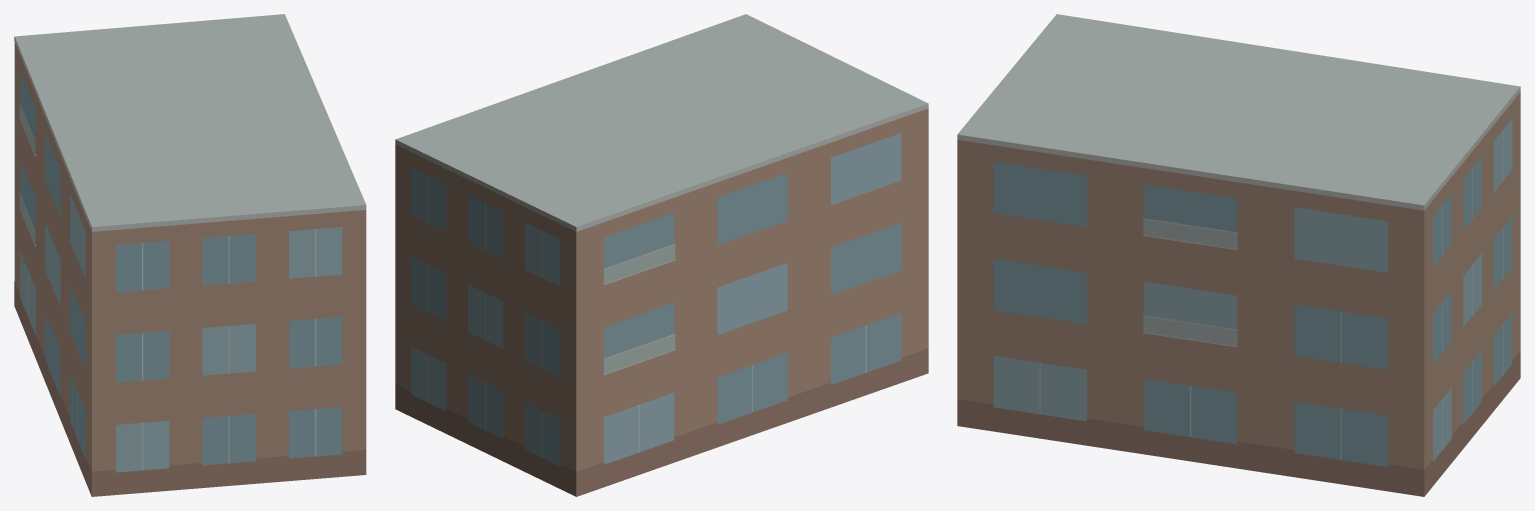
Rendered from survey-upis-32867099.glb.
The picture shows the model from 3 angles, left to right: view 1: azimuth 30°, elevation 25°; view 2: azimuth 150°, elevation 25°; view 3: azimuth 270°, elevation 25°; orthographic projection. The views are drawn at different scales.
Parts seen in each view (by area): view 1: survey-upis-32867099.tmp; view 2: survey-upis-32867099.tmp; view 3: survey-upis-32867099.tmp.
Boxes of the visible parts, bbox=[...] form: survey-upis-32867099.tmp: bbox=[14, 14, 366, 496]; survey-upis-32867099.tmp: bbox=[395, 14, 928, 496]; survey-upis-32867099.tmp: bbox=[957, 14, 1520, 496].
Size of the model in its own units: 19.16 by 13.6 by 23.83.
